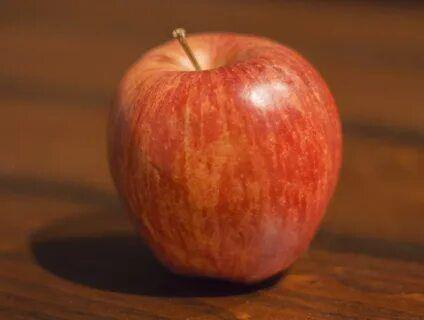Apple: (107, 31, 342, 281)
